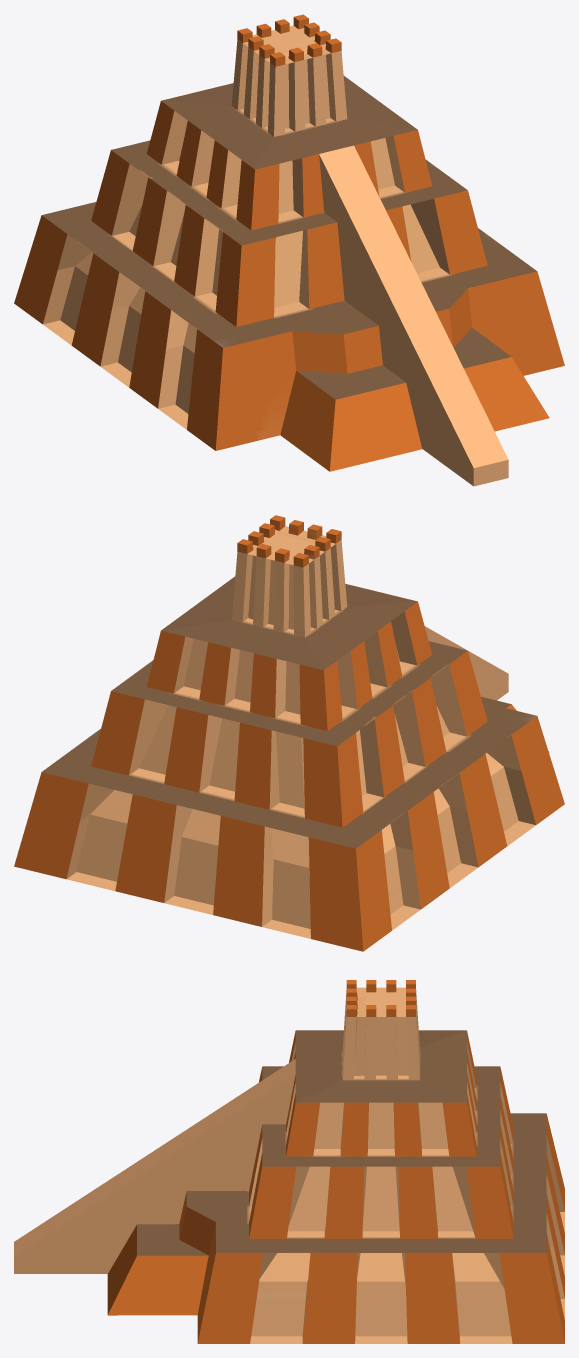
The model's file is migdash-ziggurat.glb.
3 views of the same model, one above another, from view 1: azimuth 30°, elevation 25°; view 2: azimuth 150°, elevation 25°; view 3: azimuth 270°, elevation 25° (orthographic). The views are drawn at different scales.
Visible parts, largest first — view 1: ziggurat; view 2: ziggurat; view 3: ziggurat.
Part boxes in pixels (left/top/right/bottom): ziggurat: left=14, top=14, right=564, bottom=486; ziggurat: left=14, top=515, right=564, bottom=951; ziggurat: left=14, top=980, right=564, bottom=1343.
Size of the model in its own units: 20 by 16.33 by 30.
2 materials, 1 textured.
